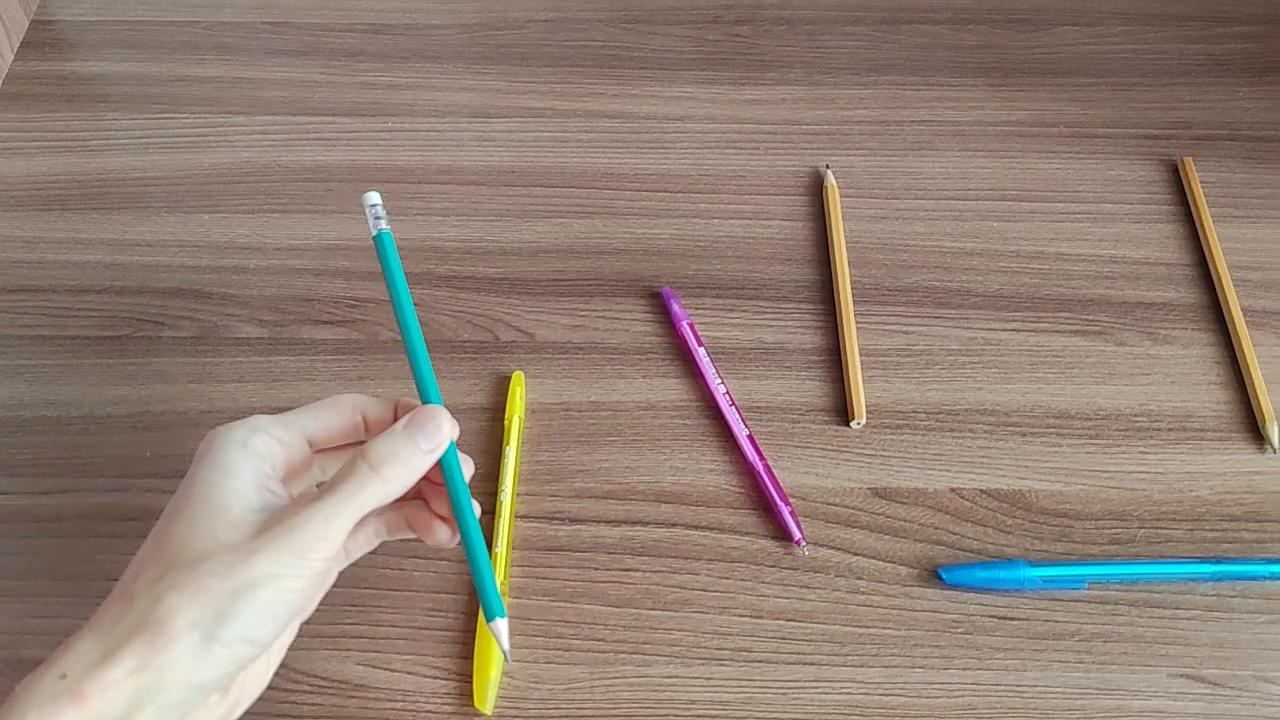pen: (656, 277, 811, 561), (469, 369, 533, 715), (924, 556, 1280, 594)
pencil: (356, 187, 514, 665), (1174, 147, 1280, 456), (819, 163, 872, 432)
